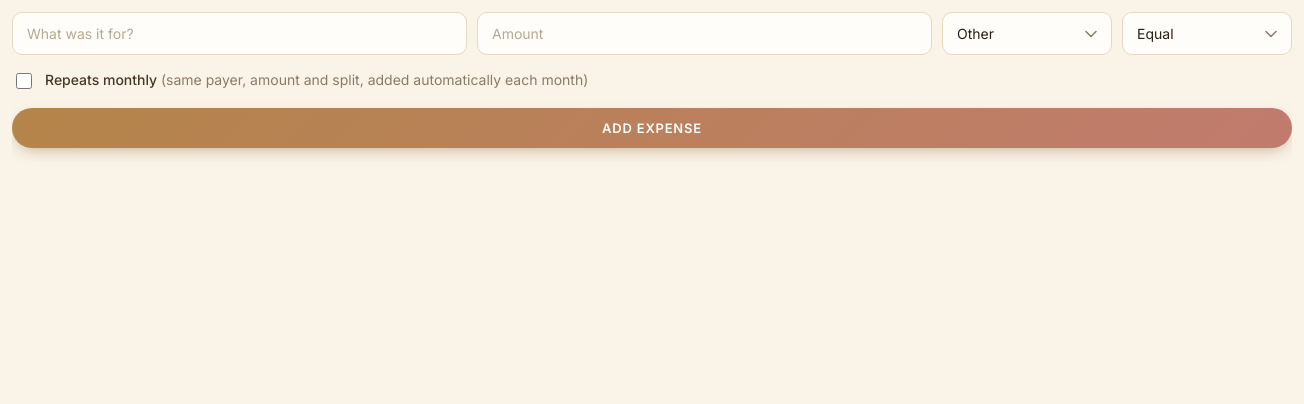
AddExpenseForm — EXACT validation › a sub-cent exact amount is rejected even though the typed values sum to the total, and nothing is sent
Type "Test expense" into the field with placeholder "What was it for?" at {"x": 240, "y": 34}, box [12,12,467,55]
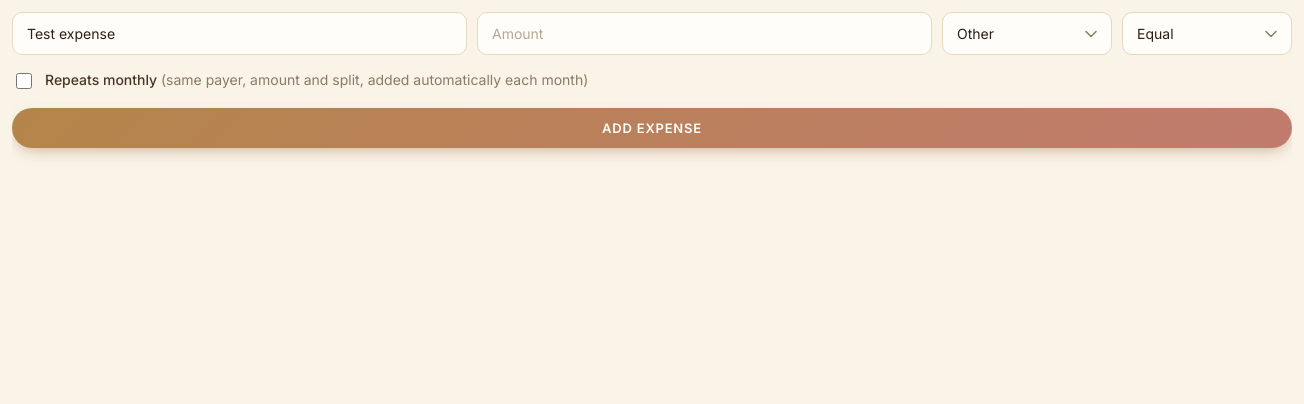
Type "100.01" into the number field with placeholder "Amount" at {"x": 704, "y": 34}, box [477,12,932,55]
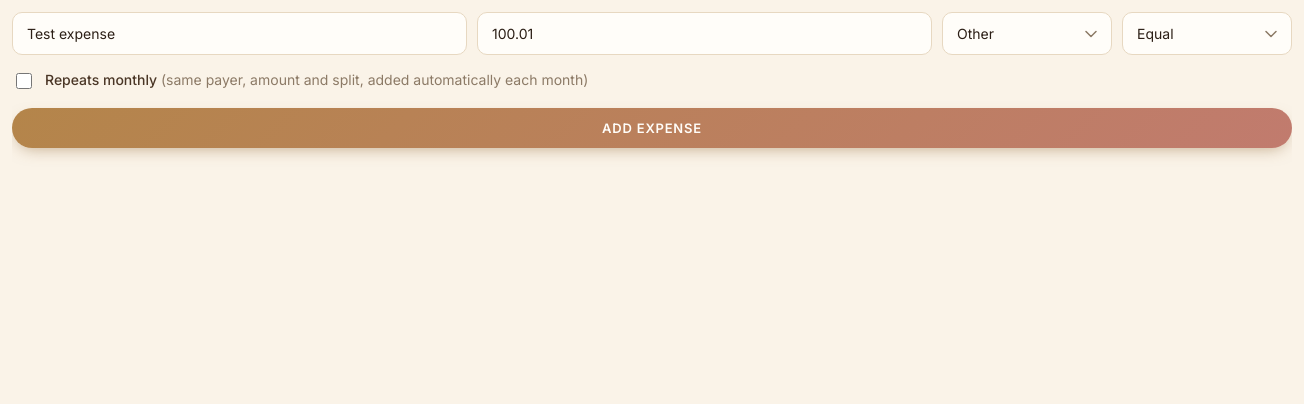
Select "Exact amounts" in the dropdown named "Split type" at {"x": 1207, "y": 34}, box [1122,12,1292,55]
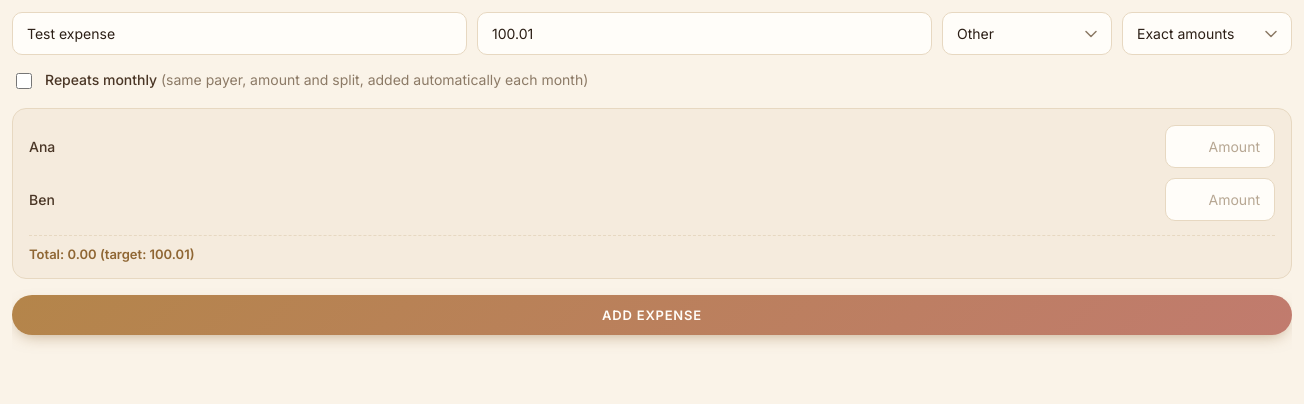
Type "50.005" into the number field with placeholder "Amount" in the row of "Ana" at {"x": 1220, "y": 146}, box [1165,125,1275,168]
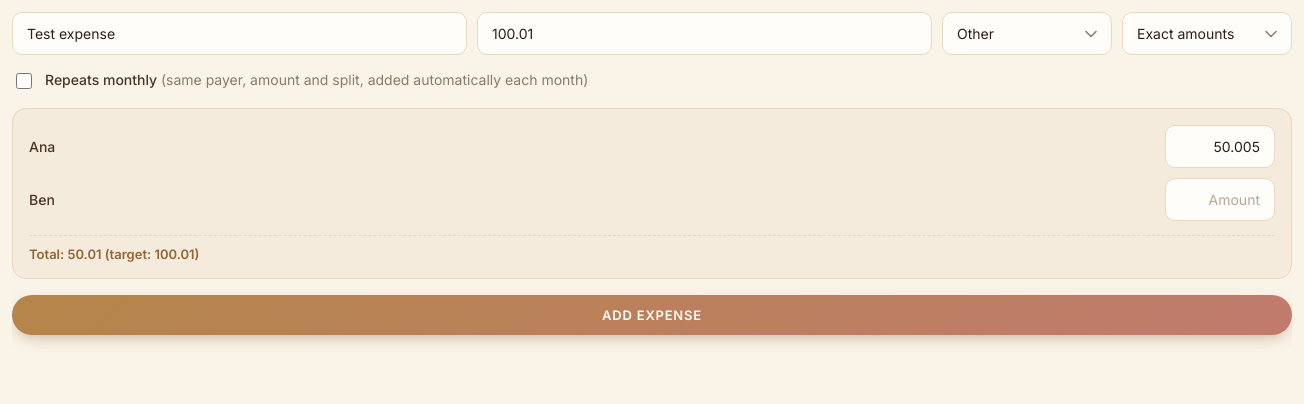
Type "50.005" into the number field with placeholder "Amount" at {"x": 1220, "y": 200}, box [1165,178,1275,221]
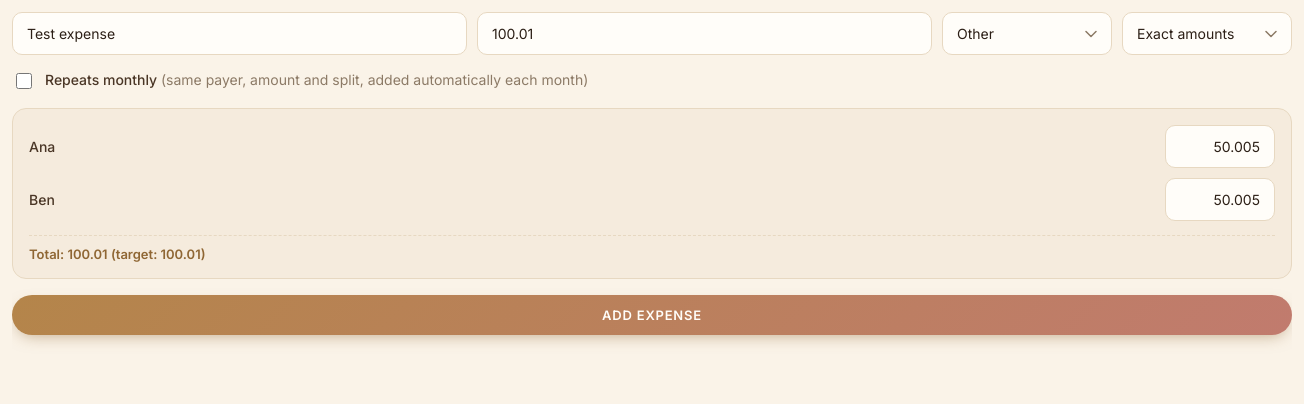
Click the button "Add expense" at {"x": 652, "y": 315}, box [12,295,1292,335]
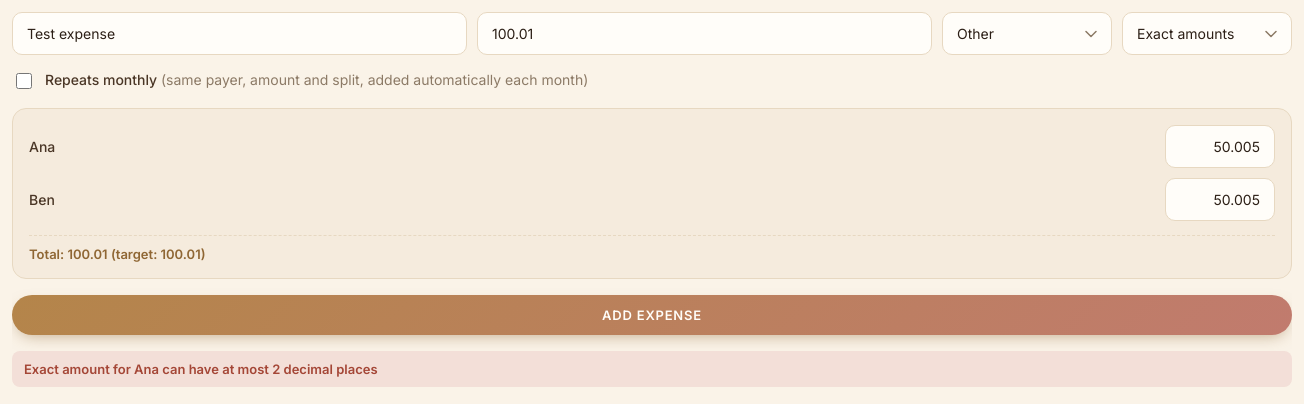
Expected: the text "Exact amount for Ana can have at most 2 decimal places" is shown, [12,351,1292,387]
